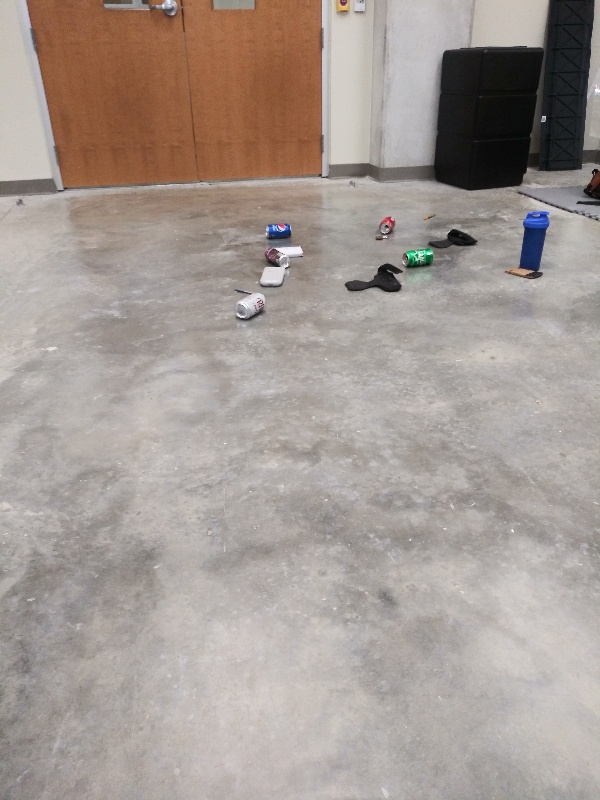can: (234, 291, 267, 322), (401, 246, 435, 267), (264, 247, 291, 269), (264, 223, 294, 239), (377, 214, 397, 236)
